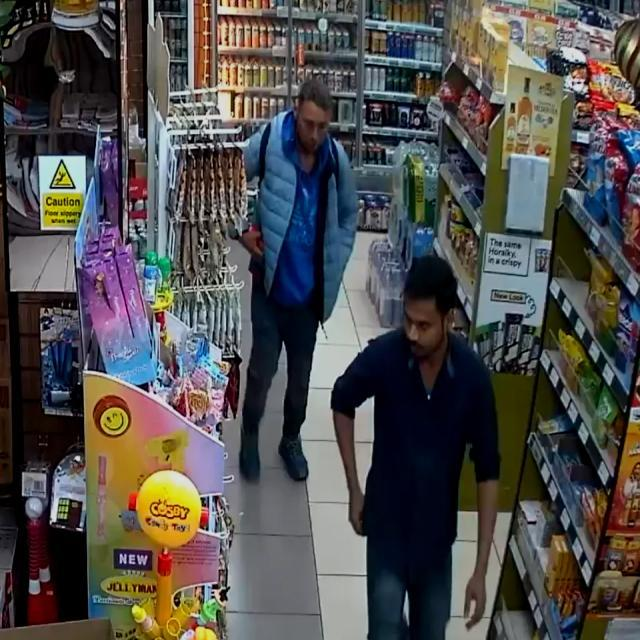Normal: (216, 67, 377, 489)
